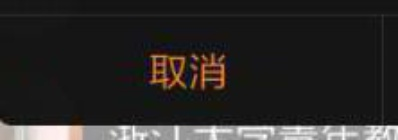Button: (1, 1, 397, 139)
